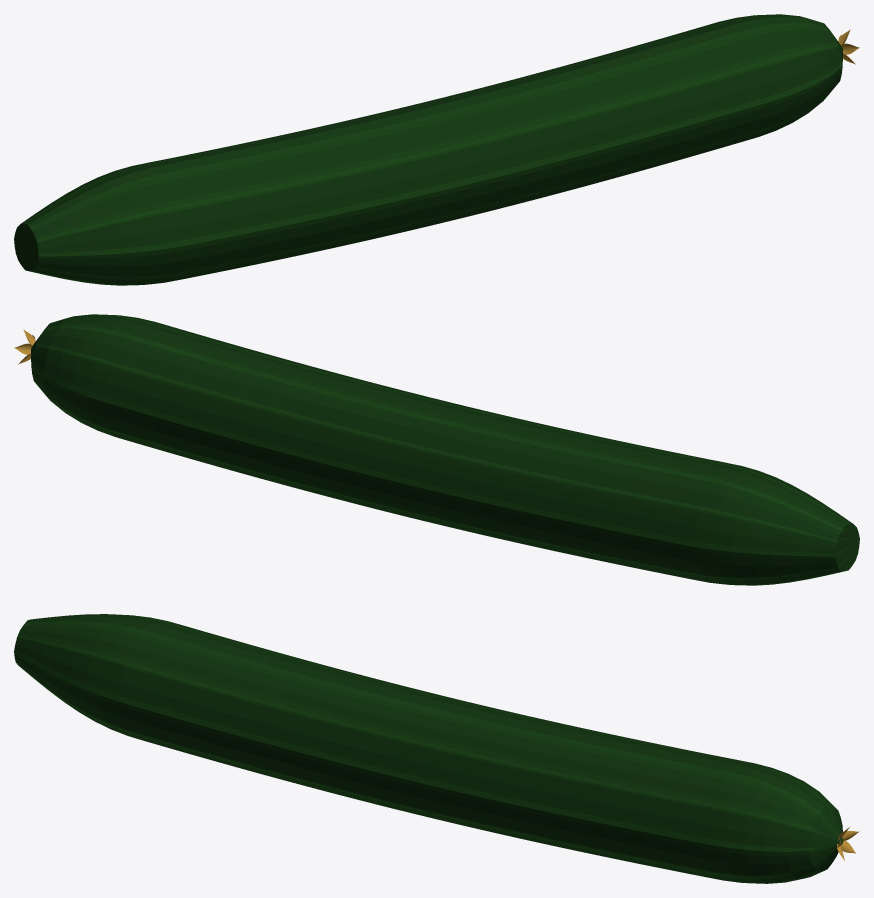
File: fruit_05.obj
3 views of the same model, one above another, from view 1: azimuth 30°, elevation 25°; view 2: azimuth 150°, elevation 25°; view 3: azimuth 330°, elevation 25° (orthographic).
Bounding box in the file's own units: 1.01 × 0.1416 × 0.1316.
Materials: 1 (1 with a texture image).
